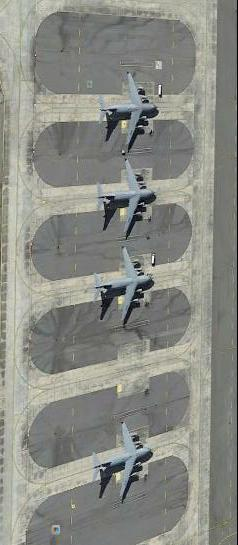C-17: (95, 69, 164, 152), (87, 420, 156, 503), (88, 250, 156, 323), (92, 159, 156, 232)
